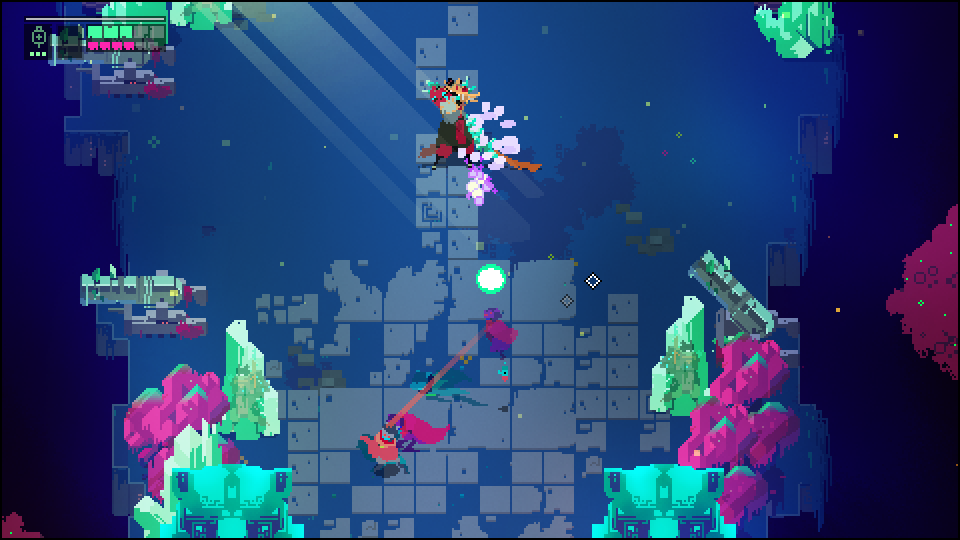hanged_man: (415, 69, 512, 180)
hanged_shot: (474, 260, 507, 297)
player: (360, 424, 402, 470)
